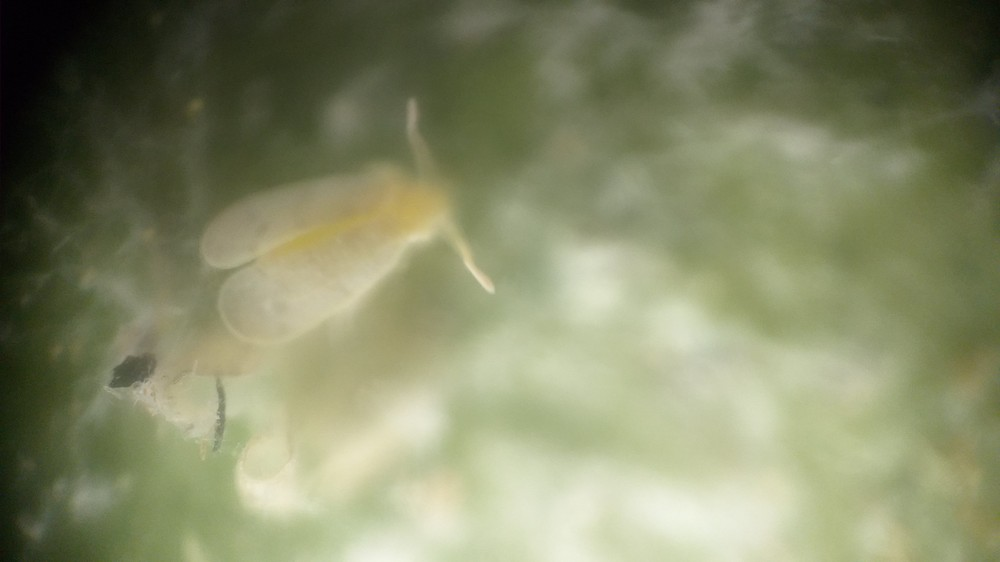Mosca Blanca: (197, 90, 521, 364)
